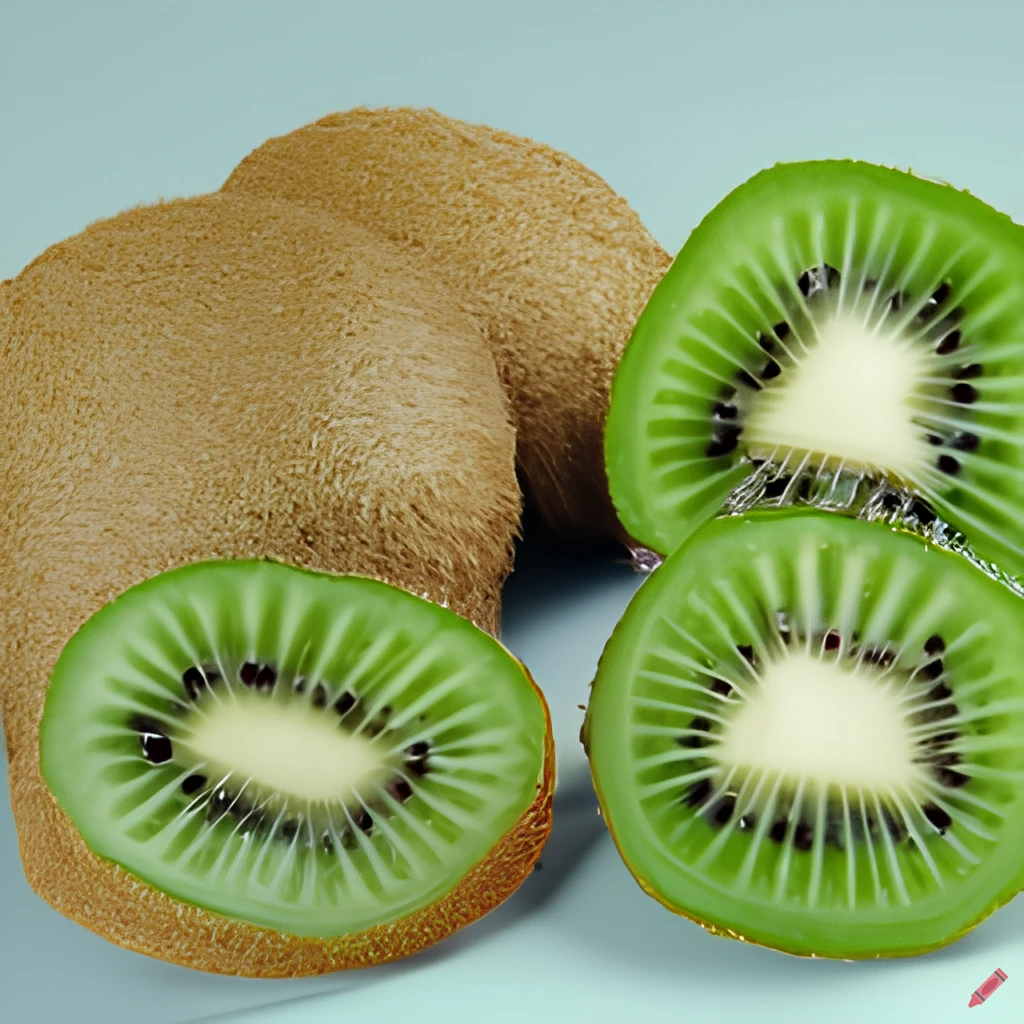Kiwi: (0, 207, 526, 784), (36, 525, 553, 969), (159, 58, 680, 426)
